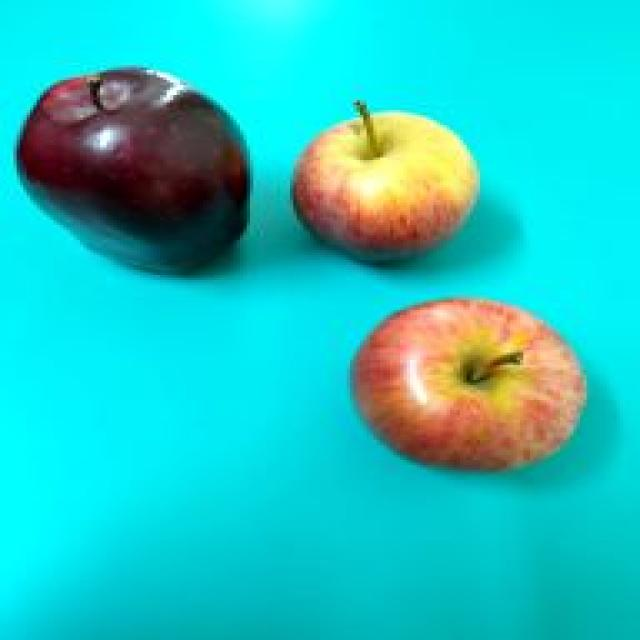Good_Apple: (13, 68, 250, 280), (347, 298, 590, 475), (290, 102, 480, 270)
